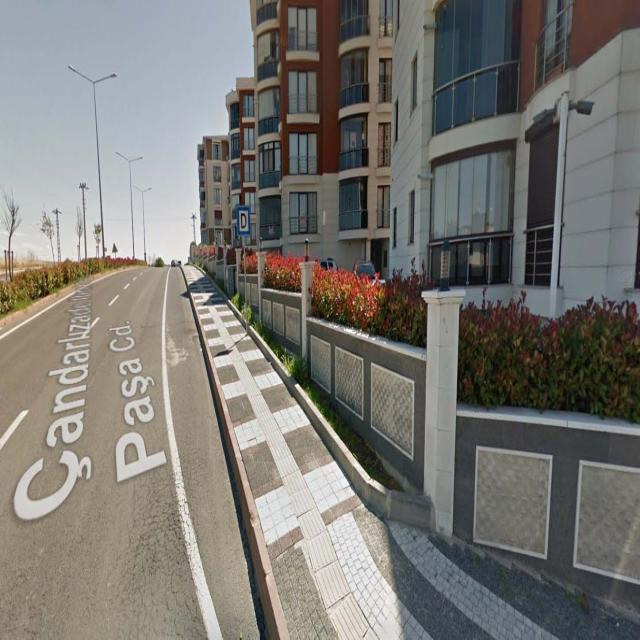durak: (238, 208, 250, 235)
